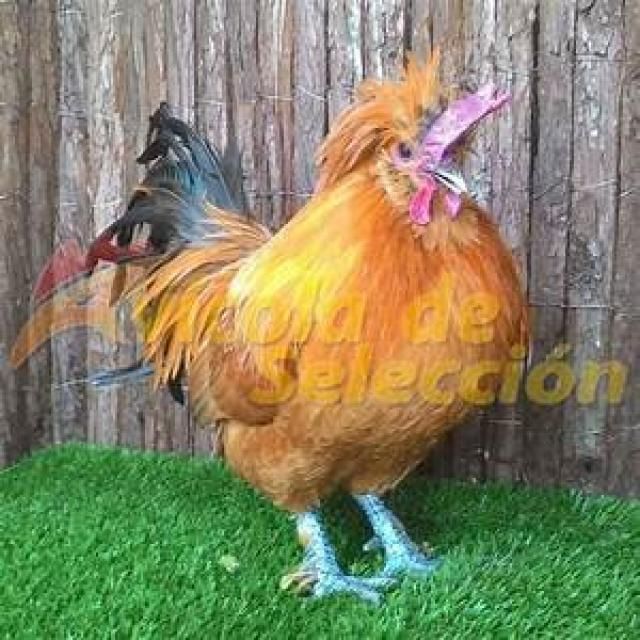hen: (9, 49, 527, 604)
